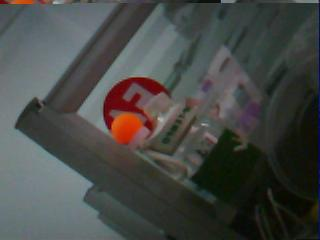oball: (111, 114, 142, 145)
